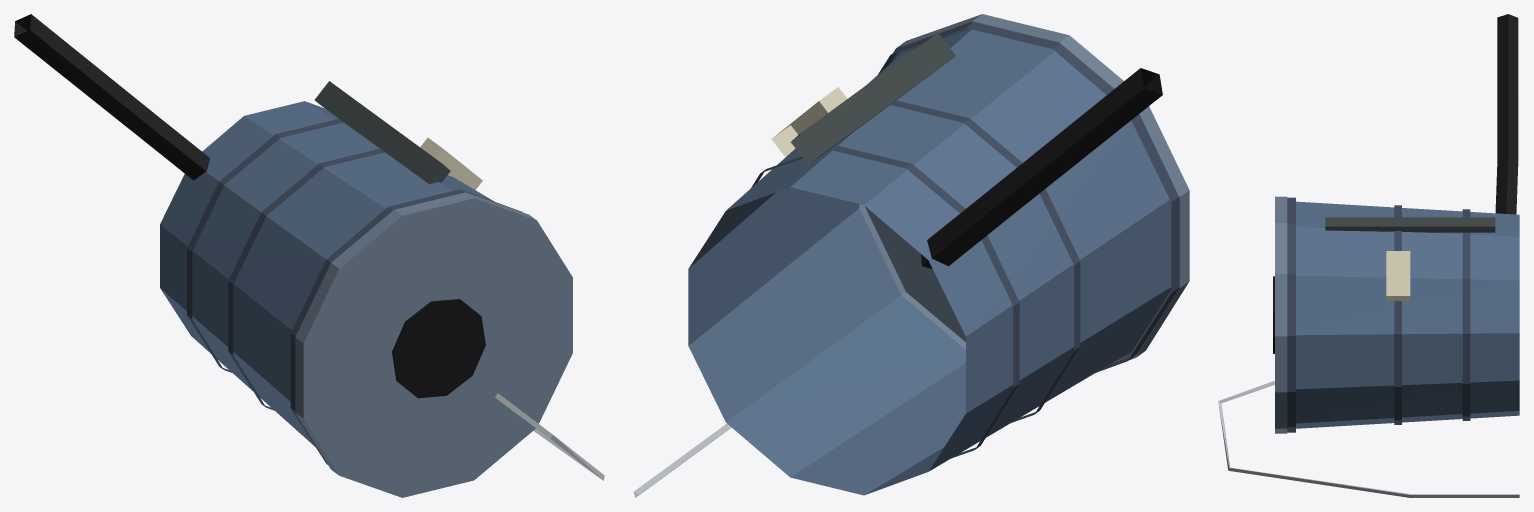
File: pot_rdwc_empty.obj
3 renders of one model, left to right at view 1: azimuth 30°, elevation 25°; view 2: azimuth 150°, elevation 25°; view 3: azimuth 270°, elevation 25°, orthographic. The views are drawn at different scales.
Bounding box in the file's own units: 0.775 × 0.776 × 0.633.
Materials: 1 (1 with a texture image).
